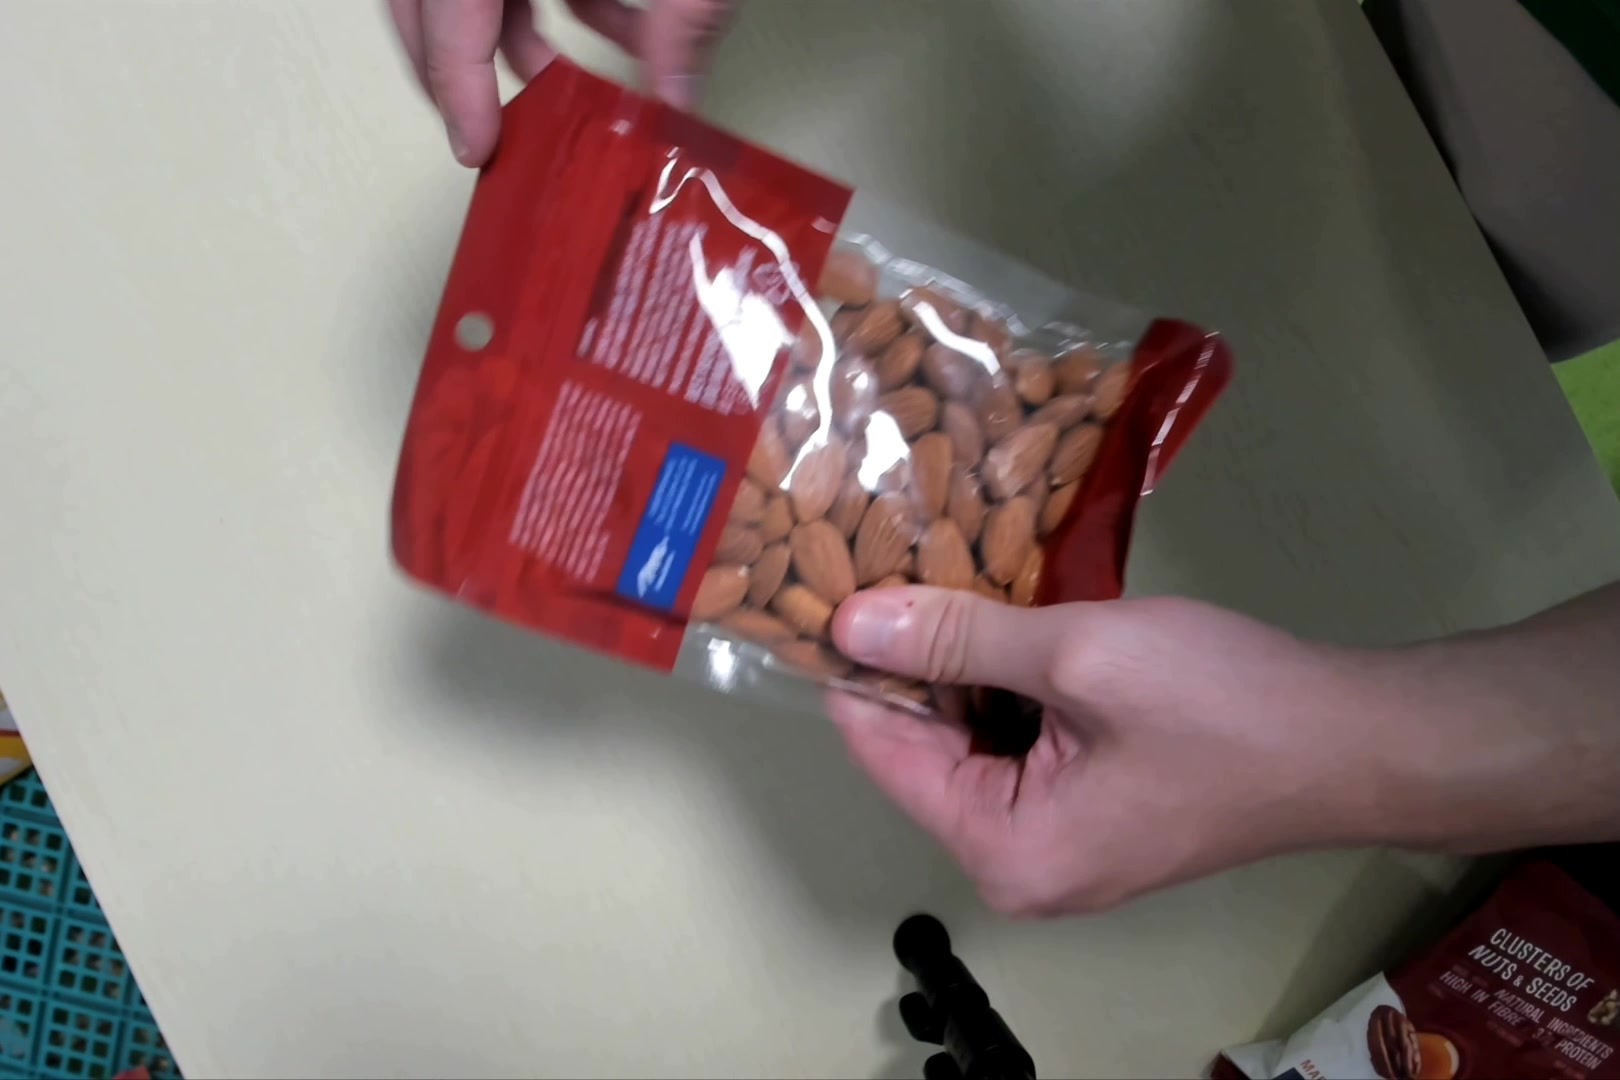Nuts_100-199g_NonHalal_NonHealthy: (399, 80, 1228, 741)
